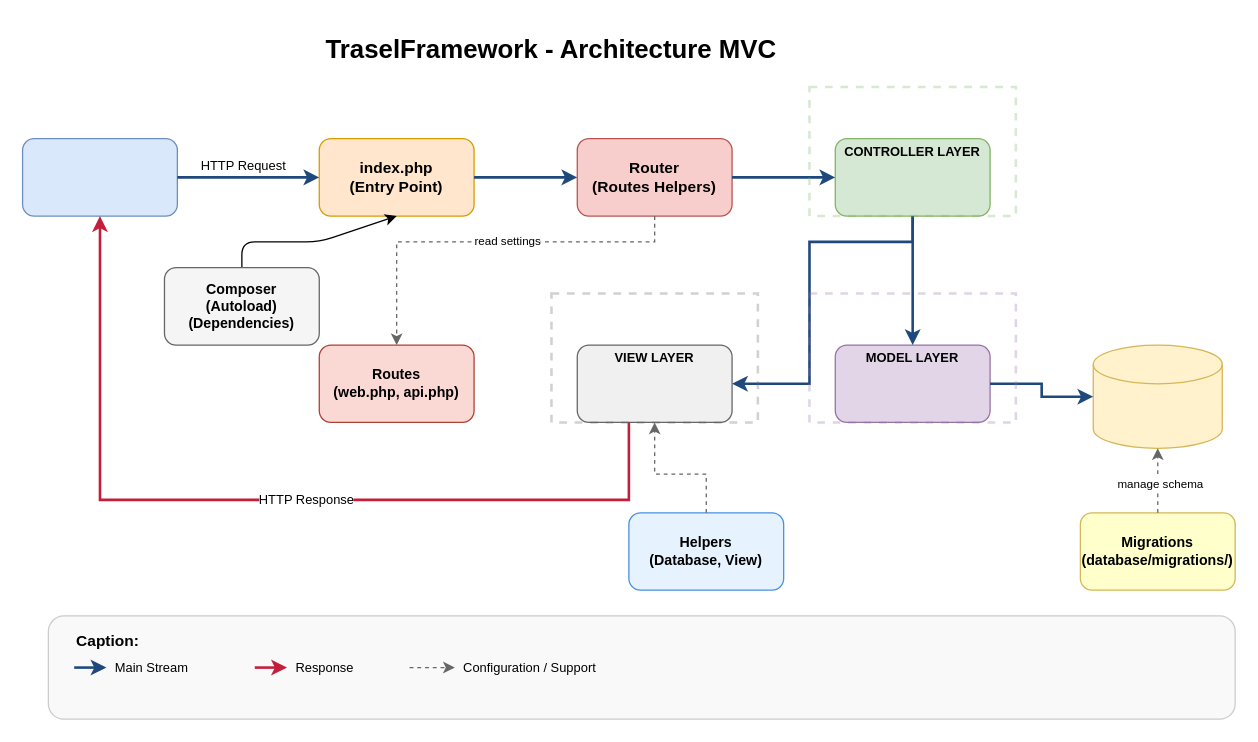
This 1258x742 diagram has some shape labels left out. The centre of each missing label's shape, as x and y in pixels:
Cliente/Browser: the point at 99,176
Controllers (app/Controllers/): the point at 912,176
Models (app/Models/): the point at 912,383
PostgreSQL Database: the point at 1157,396
Views (app/Views/): the point at 654,383
